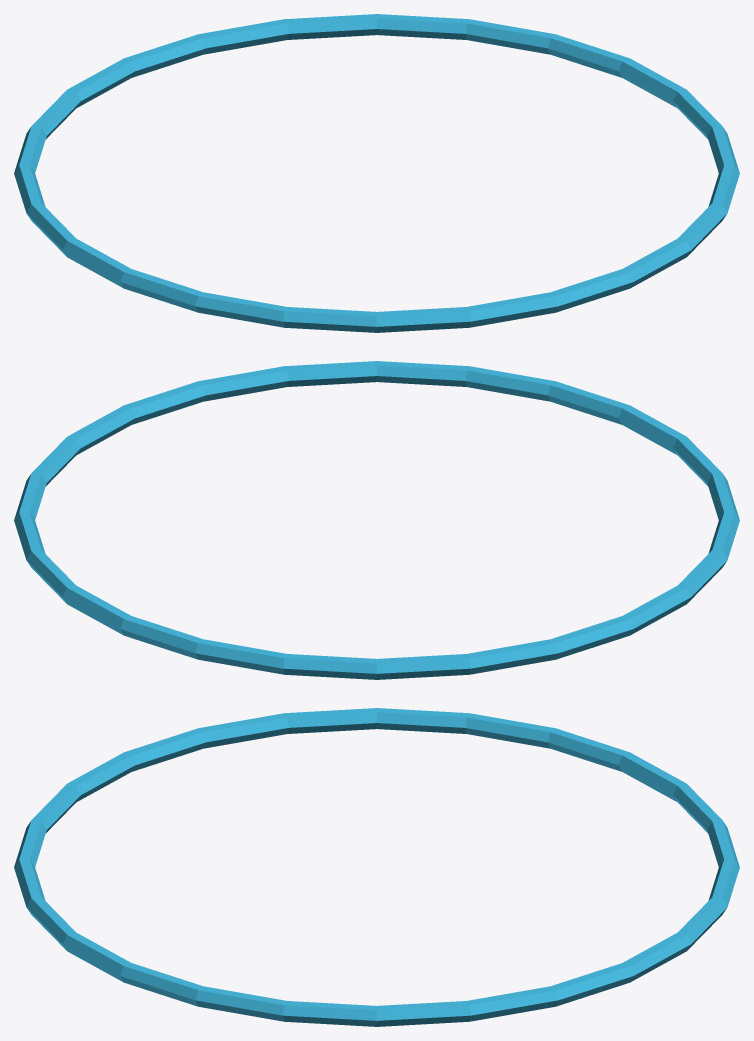
File: Prop_HulaHoop_03.fbx
3 renders of one model, top to bottom at view 1: azimuth 30°, elevation 25°; view 2: azimuth 150°, elevation 25°; view 3: azimuth 270°, elevation 25°, orthographic.
Parts seen in each view (by area): view 1: Prop_HulaHoop_03; view 2: Prop_HulaHoop_03; view 3: Prop_HulaHoop_03.
Boxes of the visible parts, <box> form: Prop_HulaHoop_03: <box>14,14,739,332</box>; Prop_HulaHoop_03: <box>14,361,739,679</box>; Prop_HulaHoop_03: <box>14,708,739,1026</box>.
Bounding box in the file's own units: 103 × 2.6 × 103.
